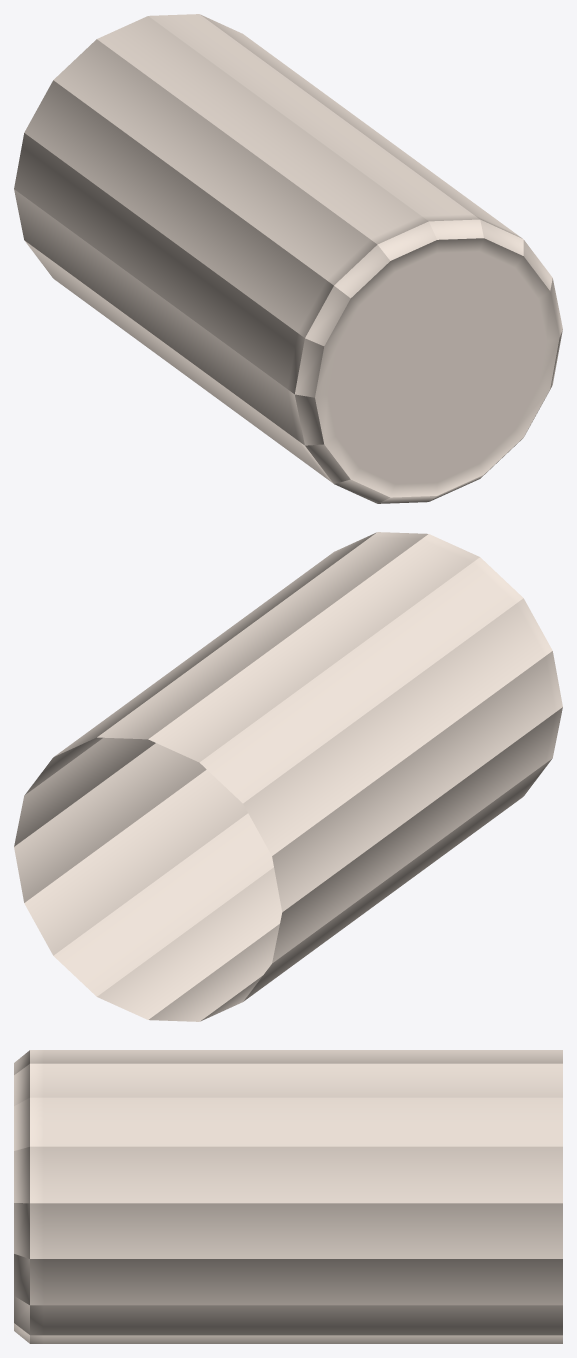
The model's file is VentFaucetTee_1_1.obj.
The picture shows the model from 3 angles, top to bottom: view 1: azimuth 30°, elevation 25°; view 2: azimuth 150°, elevation 25°; view 3: azimuth 270°, elevation 25°; orthographic projection. The views are drawn at different scales.
Parts seen in each view (by area): view 1: FaucetTee_1; view 2: FaucetTee_1; view 3: FaucetTee_1.
Boxes of the visible parts, left/top/right/bottom form: FaucetTee_1: left=14, top=14, right=562, bottom=503; FaucetTee_1: left=14, top=532, right=562, bottom=1021; FaucetTee_1: left=14, top=1050, right=562, bottom=1343.
Size of the model in its own units: 0.0204 by 0.0204 by 0.0381.
